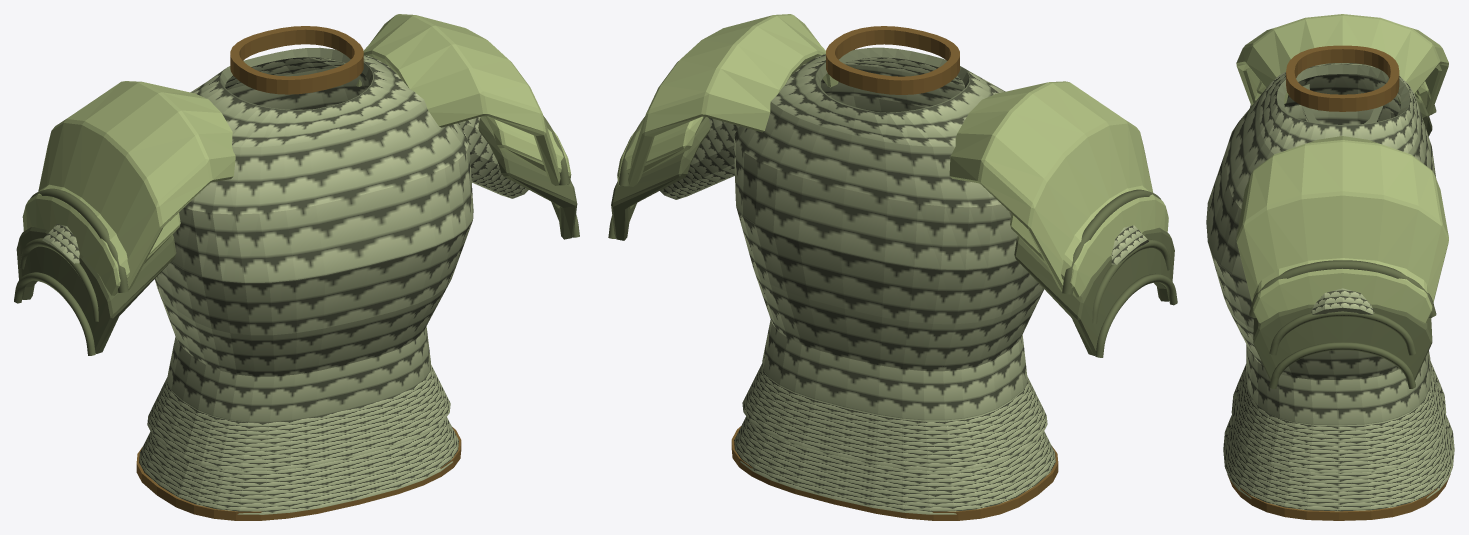
Rendered from scale_mail.obj.
The picture shows the model from 3 angles, left to right: view 1: azimuth 30°, elevation 25°; view 2: azimuth 150°, elevation 25°; view 3: azimuth 270°, elevation 25°; orthographic projection. The views are drawn at different scales.
Parts seen in each view (by area): view 1: A_Torso.001_scale_mail_body, K_CrowningShoulder.001_scale_mail_shoulder_shell, D_Skirt0.001_scale_mail_body, D_Skirt1.001_scale_mail_body, K_OverlappingLame1.001_scale_mail_shoulder_overlap, K_OverlappingLame0.001_scale_mail_shoulder_shell, B_NeckTrim.001_scale_mail_trim, F_Sleeve.001_scale_mail_body, B_HemTrim.001_scale_mail_trim, K_RaisedLip.001_scale_mail_shoulder_overlap, K_LameLip1.001_scale_mail_shoulder_overlap, K_LameLip0.001_scale_mail_shoulder_overlap; view 2: A_Torso.001_scale_mail_body, K_CrowningShoulder.001_scale_mail_shoulder_shell, D_Skirt0.001_scale_mail_body, D_Skirt1.001_scale_mail_body, K_OverlappingLame1.001_scale_mail_shoulder_overlap, K_OverlappingLame0.001_scale_mail_shoulder_shell, B_NeckTrim.001_scale_mail_trim, F_Sleeve.001_scale_mail_body, B_HemTrim.001_scale_mail_trim, K_RaisedLip.001_scale_mail_shoulder_overlap, K_LameLip1.001_scale_mail_shoulder_overlap, K_LameLip0.001_scale_mail_shoulder_overlap; view 3: K_CrowningShoulder.001_scale_mail_shoulder_shell, A_Torso.001_scale_mail_body, D_Skirt0.001_scale_mail_body, D_Skirt1.001_scale_mail_body, K_OverlappingLame1.001_scale_mail_shoulder_overlap, K_OverlappingLame0.001_scale_mail_shoulder_shell, B_NeckTrim.001_scale_mail_trim, B_HemTrim.001_scale_mail_trim, K_LameLip1.001_scale_mail_shoulder_overlap, F_Sleeve.001_scale_mail_body, K_RaisedLip.001_scale_mail_shoulder_overlap, K_LameLip0.001_scale_mail_shoulder_overlap.
Boxes of the visible parts, left/top/right/bottom form: A_Torso.001_scale_mail_body: left=154, top=47, right=473, bottom=422; K_CrowningShoulder.001_scale_mail_shoulder_shell: left=38, top=14, right=560, bottom=289; D_Skirt0.001_scale_mail_body: left=147, top=364, right=450, bottom=470; D_Skirt1.001_scale_mail_body: left=139, top=417, right=458, bottom=514; K_OverlappingLame1.001_scale_mail_shoulder_overlap: left=16, top=116, right=577, bottom=353; K_OverlappingLame0.001_scale_mail_shoulder_shell: left=22, top=116, right=571, bottom=295; B_NeckTrim.001_scale_mail_trim: left=230, top=26, right=363, bottom=94; F_Sleeve.001_scale_mail_body: left=42, top=117, right=528, bottom=263; B_HemTrim.001_scale_mail_trim: left=136, top=427, right=461, bottom=520; K_RaisedLip.001_scale_mail_shoulder_overlap: left=30, top=116, right=569, bottom=292; K_LameLip1.001_scale_mail_shoulder_overlap: left=14, top=214, right=579, bottom=355; K_LameLip0.001_scale_mail_shoulder_overlap: left=20, top=238, right=98, bottom=321; A_Torso.001_scale_mail_body: left=734, top=47, right=1044, bottom=420; K_CrowningShoulder.001_scale_mail_shoulder_shell: left=628, top=14, right=1153, bottom=291; D_Skirt0.001_scale_mail_body: left=742, top=363, right=1047, bottom=470; D_Skirt1.001_scale_mail_body: left=734, top=416, right=1055, bottom=514; K_OverlappingLame1.001_scale_mail_shoulder_overlap: left=611, top=116, right=1174, bottom=355; K_OverlappingLame0.001_scale_mail_shoulder_shell: left=617, top=116, right=1168, bottom=297; B_NeckTrim.001_scale_mail_trim: left=826, top=26, right=959, bottom=94; F_Sleeve.001_scale_mail_body: left=660, top=117, right=1148, bottom=265; B_HemTrim.001_scale_mail_trim: left=731, top=426, right=1058, bottom=520; K_RaisedLip.001_scale_mail_shoulder_overlap: left=618, top=117, right=1160, bottom=294; K_LameLip1.001_scale_mail_shoulder_overlap: left=608, top=215, right=1177, bottom=357; K_LameLip0.001_scale_mail_shoulder_overlap: left=1092, top=239, right=1171, bottom=323; K_CrowningShoulder.001_scale_mail_shoulder_shell: left=1236, top=14, right=1448, bottom=302; A_Torso.001_scale_mail_body: left=1206, top=63, right=1436, bottom=425; D_Skirt0.001_scale_mail_body: left=1231, top=361, right=1446, bottom=472; D_Skirt1.001_scale_mail_body: left=1223, top=415, right=1454, bottom=511; K_OverlappingLame1.001_scale_mail_shoulder_overlap: left=1253, top=96, right=1432, bottom=380; K_OverlappingLame0.001_scale_mail_shoulder_shell: left=1253, top=81, right=1432, bottom=323; B_NeckTrim.001_scale_mail_trim: left=1286, top=45, right=1399, bottom=111; B_HemTrim.001_scale_mail_trim: left=1227, top=474, right=1450, bottom=520; K_LameLip1.001_scale_mail_shoulder_overlap: left=1269, top=342, right=1415, bottom=388; F_Sleeve.001_scale_mail_body: left=1302, top=84, right=1383, bottom=314; K_RaisedLip.001_scale_mail_shoulder_overlap: left=1249, top=105, right=1436, bottom=317; K_LameLip0.001_scale_mail_shoulder_overlap: left=1269, top=311, right=1415, bottom=355.
Bounding box in the file's own units: 2.84 × 2.24 × 1.31.
4 materials, 1 textured.
